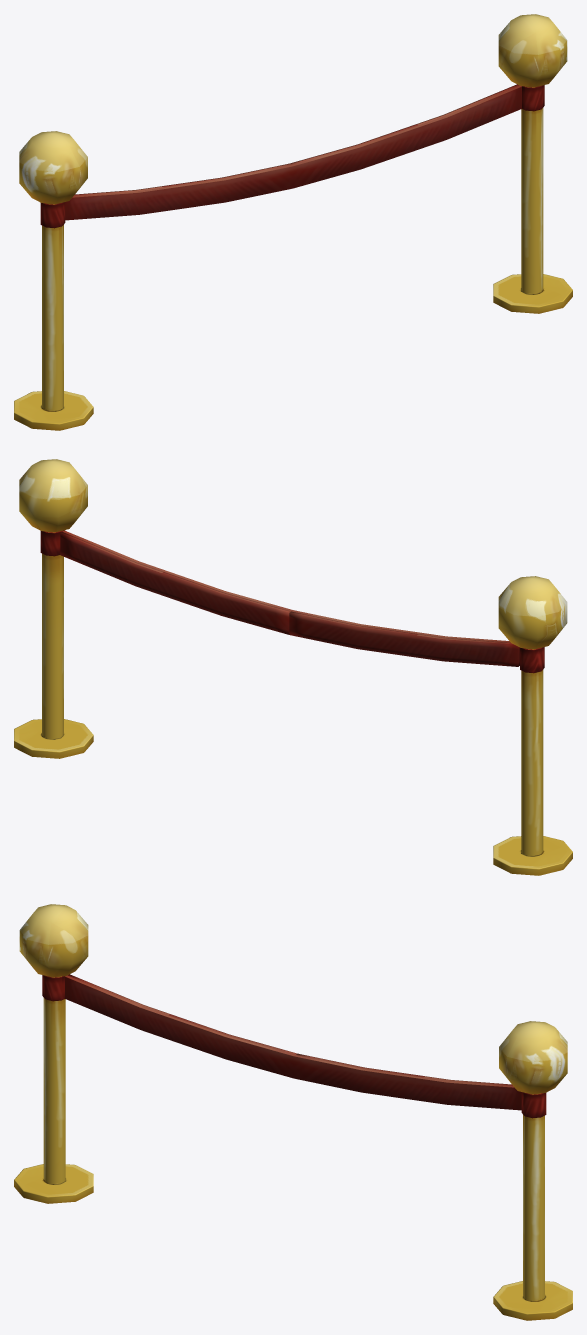
File: uploads_files_2626770_Stanchion.fbx
3 renders of one model, top to bottom at view 1: azimuth 30°, elevation 25°; view 2: azimuth 150°, elevation 25°; view 3: azimuth 330°, elevation 25°, orthographic.
Visible parts, largest first — view 1: Poles, Ribon, Physics ribon; view 2: Poles, Physics ribon, Ribon; view 3: Poles, Ribon, Physics ribon.
Boxes of the visible parts, x1,y1,x2,y2 form: Poles: (14, 14, 572, 430); Ribon: (65, 85, 521, 220); Physics ribon: (74, 84, 518, 195); Poles: (14, 459, 572, 875); Physics ribon: (60, 532, 519, 666); Ribon: (62, 530, 510, 642); Poles: (14, 904, 572, 1320); Ribon: (65, 975, 521, 1110); Physics ribon: (68, 974, 512, 1085).
Size of the model in its own units: 710 by 346 by 89.19.
1 material, 1 textured.
